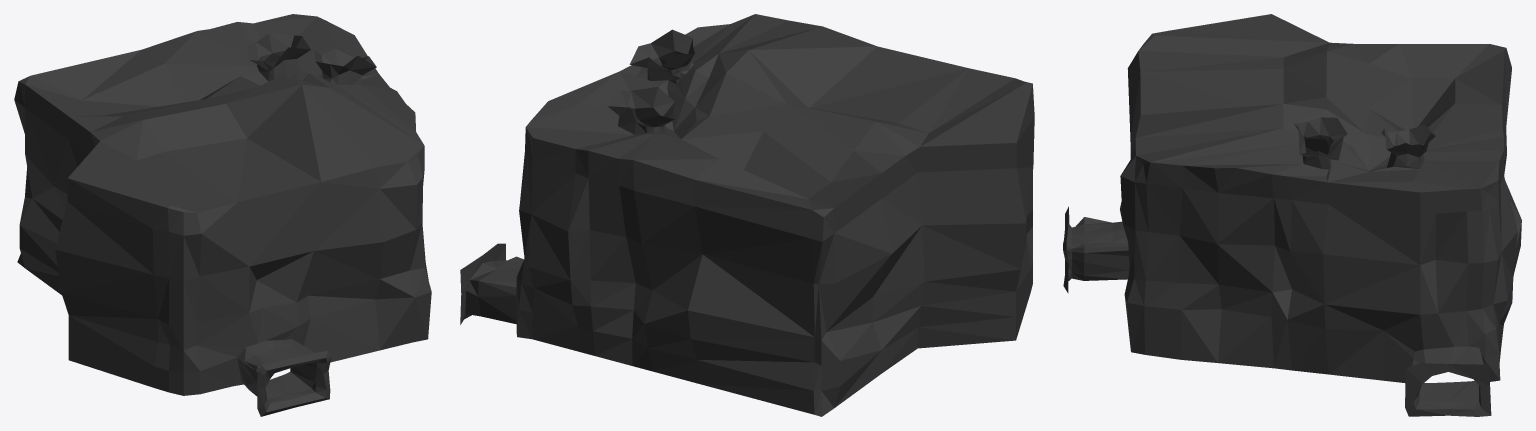
The model's file is Cave_14A_LOD_2.fbx.
3 views of the same model, side by side, from view 1: azimuth 30°, elevation 25°; view 2: azimuth 150°, elevation 25°; view 3: azimuth 270°, elevation 25° (orthographic). The views are drawn at different scales.
Parts seen in each view (by area): view 1: polySurface1226; view 2: polySurface1226; view 3: polySurface1226.
Boxes of the visible parts, x1,y1,x2,y2 form: polySurface1226: (14,14,431,416); polySurface1226: (460,14,1034,416); polySurface1226: (1063,14,1521,416).
Size of the model in its own units: 51.29 by 26.92 by 46.9.
